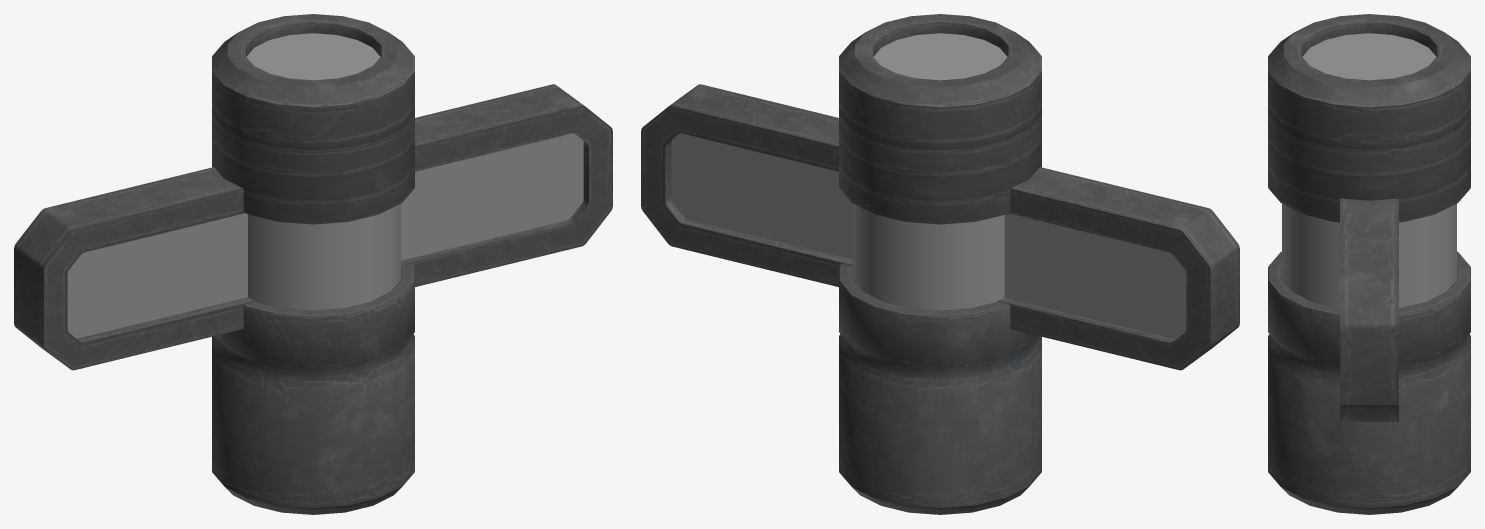
File: Trap_02.fbx
The picture shows the model from 3 angles, left to right: view 1: azimuth 30°, elevation 25°; view 2: azimuth 150°, elevation 25°; view 3: azimuth 270°, elevation 25°; orthographic projection.
Parts seen in each view (by area): view 1: Cylinder007; view 2: Cylinder007; view 3: Cylinder007.
Boxes of the visible parts, x1=… form: Cylinder007: x1=14, y1=14, x2=612, y2=514; Cylinder007: x1=641, y1=14, x2=1239, y2=514; Cylinder007: x1=1268, y1=14, x2=1470, y2=514.
Size of the model in its own units: 277 by 200 by 85.38.
